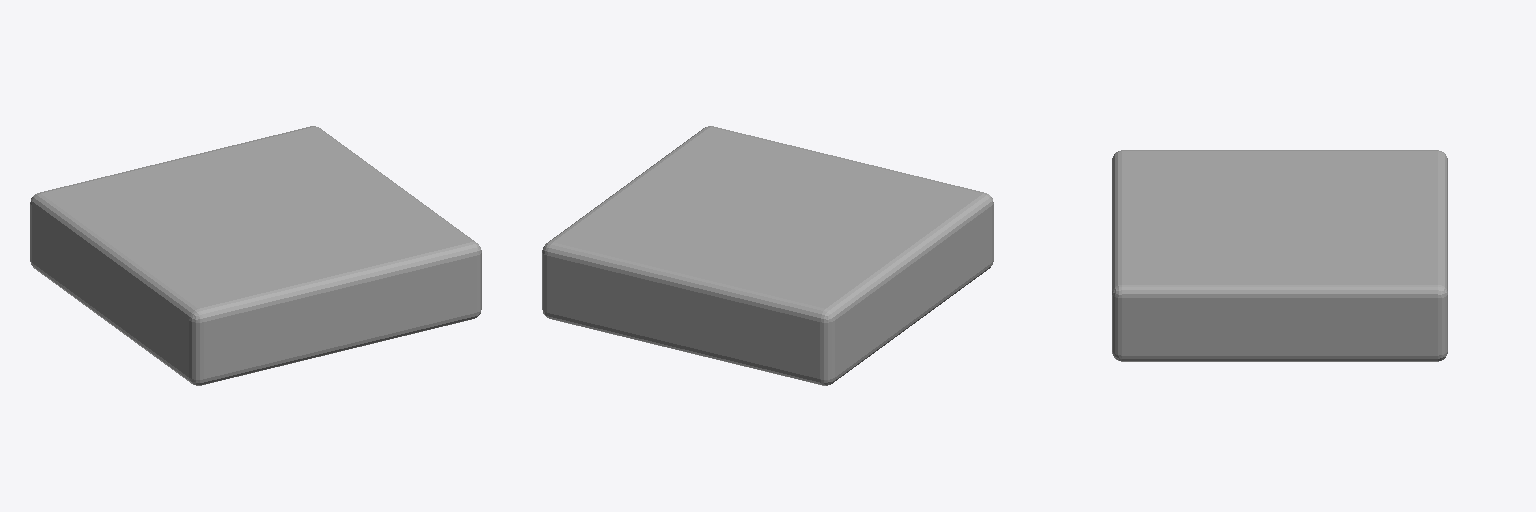
The model's file is platform4x4.obj.
The picture shows the model from 3 angles: view 1: azimuth 30°, elevation 25°; view 2: azimuth 150°, elevation 25°; view 3: azimuth 270°, elevation 25°; orthographic projection.
Parts seen in each view (by area): view 1: pCube1; view 2: pCube1; view 3: pCube1.
Boxes of the visible parts, box(x1,y1,x2,y2) form: pCube1: box(30, 126, 481, 385); pCube1: box(542, 126, 993, 385); pCube1: box(1112, 150, 1447, 361).
Size of the model in its own units: 4 by 1 by 4.